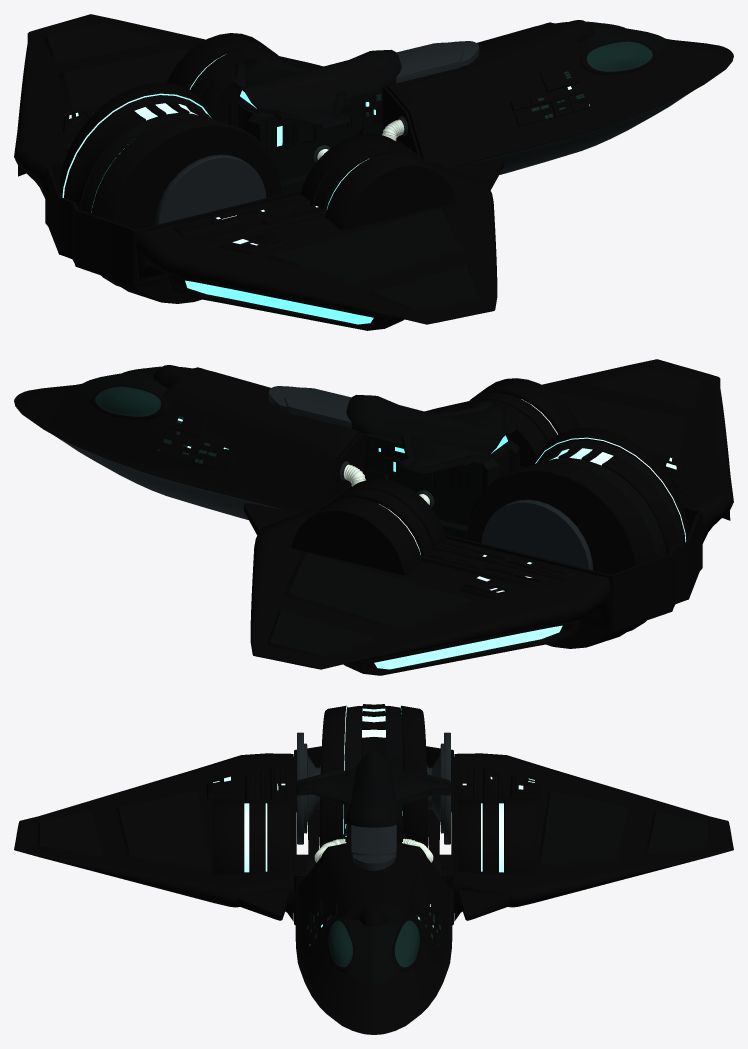
The model's file is SK_Corvette_A.fbx.
3 views of the same model, one above another, from view 1: azimuth 30°, elevation 25°; view 2: azimuth 150°, elevation 25°; view 3: azimuth 270°, elevation 25° (orthographic). The views are drawn at different scales.
Parts seen in each view (by area): view 1: SK_Ship_A_RW, Sk_Ship_A_Body, SK_Ship_A_Nose, SK_Ship_A_LW; view 2: SK_Ship_A_LW, Sk_Ship_A_Body, SK_Ship_A_Nose, SK_Ship_A_RW; view 3: SK_Ship_A_LW, SK_Ship_A_RW, SK_Ship_A_Nose, Sk_Ship_A_Body.
Part boxes in pixels (x1,y1,x2,y2): SK_Ship_A_RW: (136,133,503,330); Sk_Ship_A_Body: (45,41,479,303); SK_Ship_A_Nose: (381,20,733,174); SK_Ship_A_LW: (14,14,323,198); SK_Ship_A_LW: (244,478,611,675); Sk_Ship_A_Body: (268,386,702,648); SK_Ship_A_Nose: (14,365,366,519); SK_Ship_A_RW: (424,359,733,543); SK_Ship_A_LW: (454,753,733,921); SK_Ship_A_RW: (14,753,293,921); SK_Ship_A_Nose: (294,842,453,1034); Sk_Ship_A_Body: (294,704,453,925).
Bounding box in the file's own units: 1226 × 1295 × 316.
